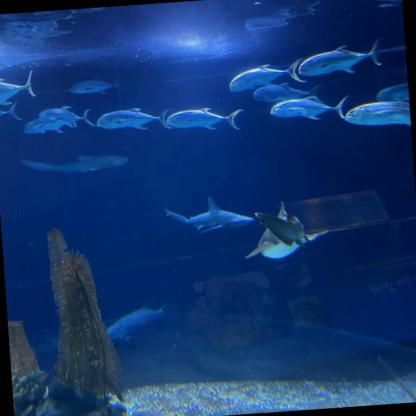fish: (296, 38, 384, 78), (104, 300, 179, 343), (229, 56, 306, 92), (165, 106, 245, 136), (344, 100, 411, 134), (270, 95, 349, 123), (96, 104, 170, 133), (38, 103, 97, 130), (251, 82, 323, 102), (0, 68, 35, 107), (22, 115, 76, 136), (70, 77, 124, 97), (375, 78, 409, 106), (0, 101, 21, 123)
shark: (242, 197, 330, 261), (164, 194, 255, 236), (20, 151, 128, 177)
